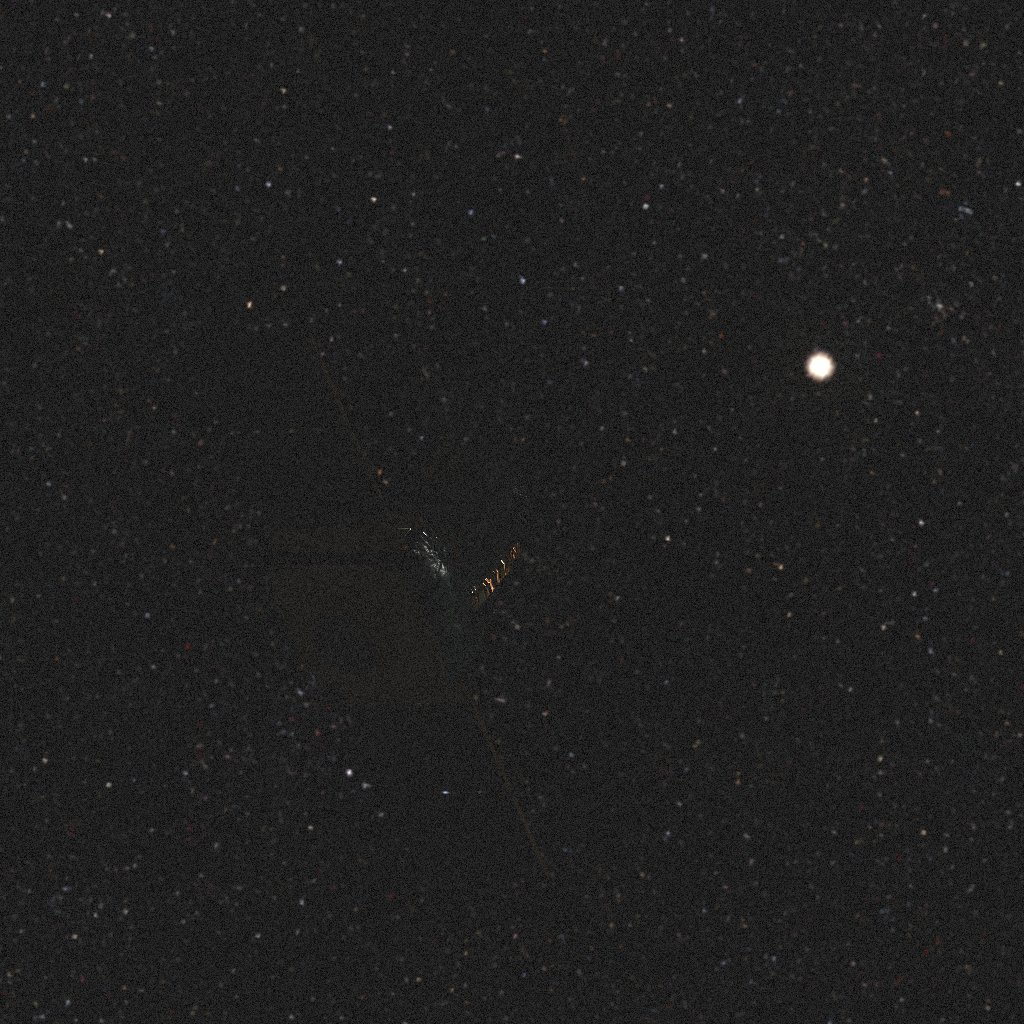soho: (184, 336, 550, 880)
